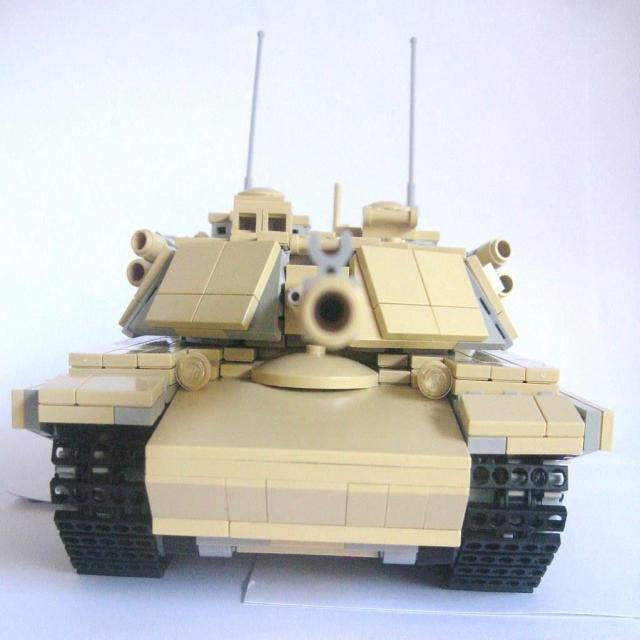Tanks: (12, 170, 602, 601)
